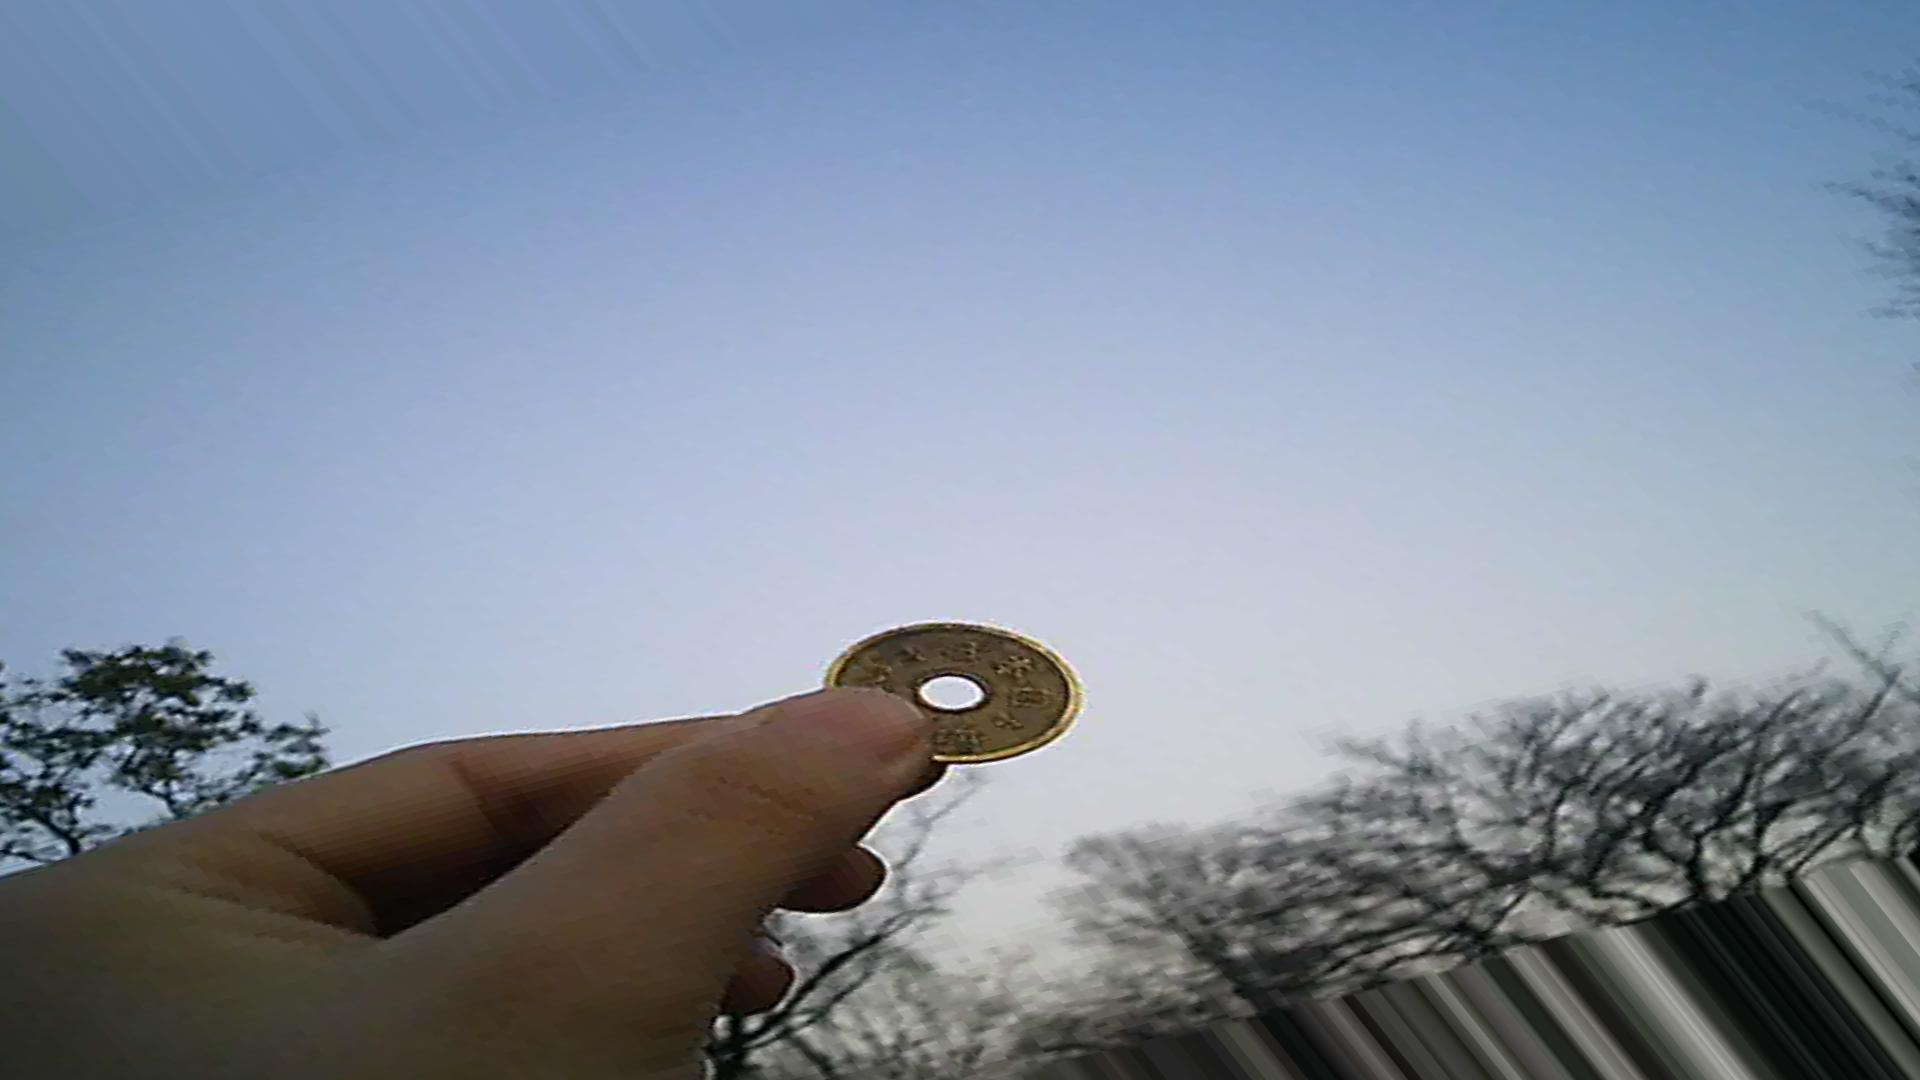5 Yen: (816, 611, 1108, 779)
